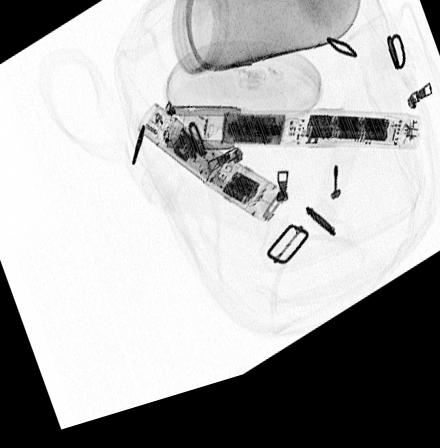Baton: (135, 113, 285, 241), (165, 117, 425, 177)
